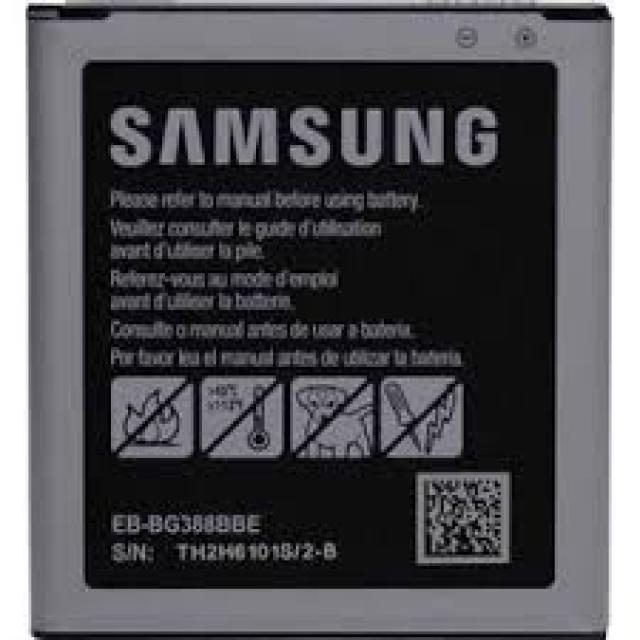battery: (26, 3, 609, 637)
